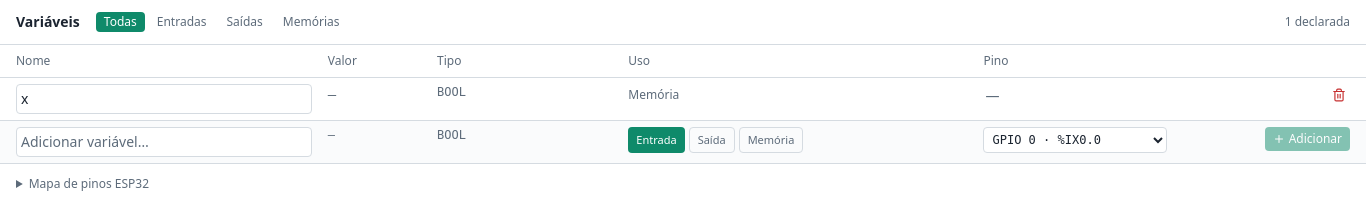
Test case: PainelVariaveis — editar e remover via núcleo › renomeia uma variável
Replace the text in the field named "Nome da variável x" with "y" at (164, 99), box [16,84,312,114]
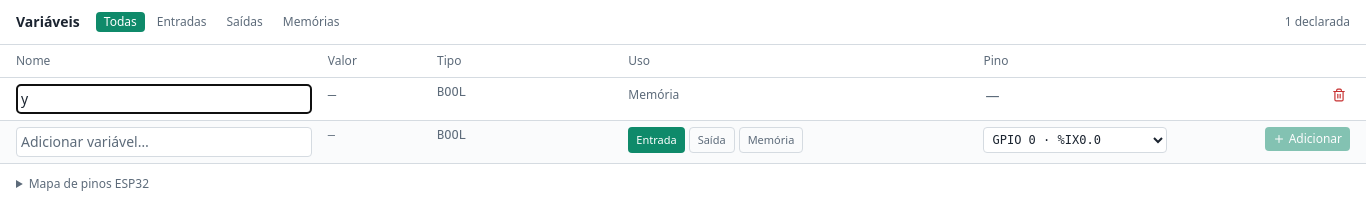
Press Enter
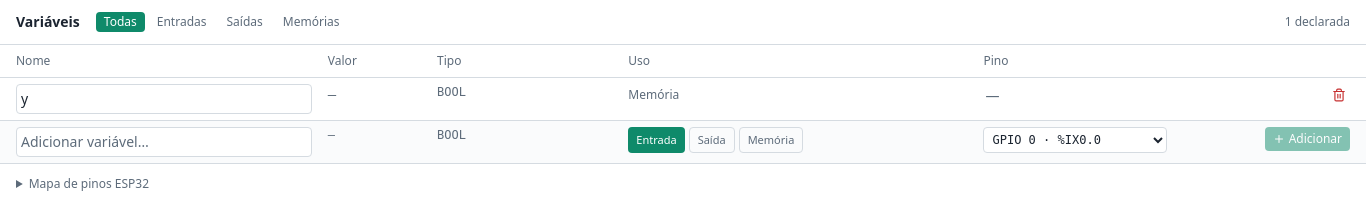
Check: the field named "Nome da variável y" is shown, box [16,84,312,114]
